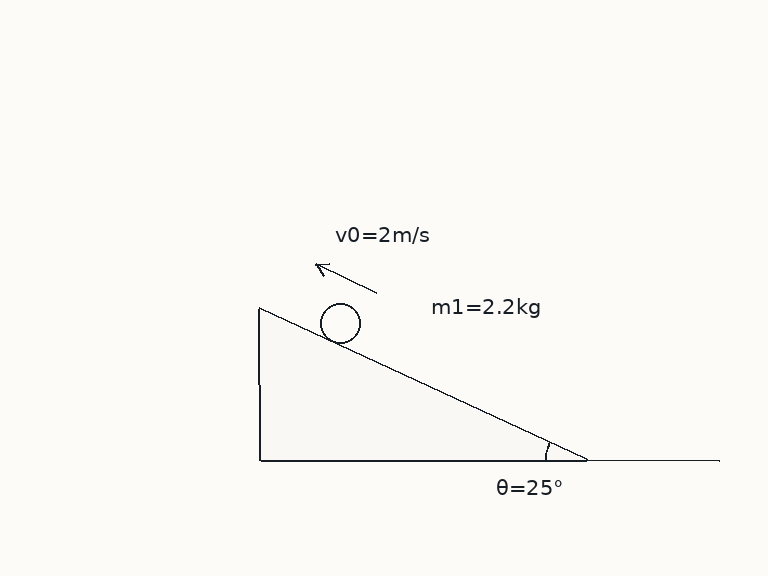ball: (318, 301, 362, 345)
ramp: (258, 306, 588, 462)
